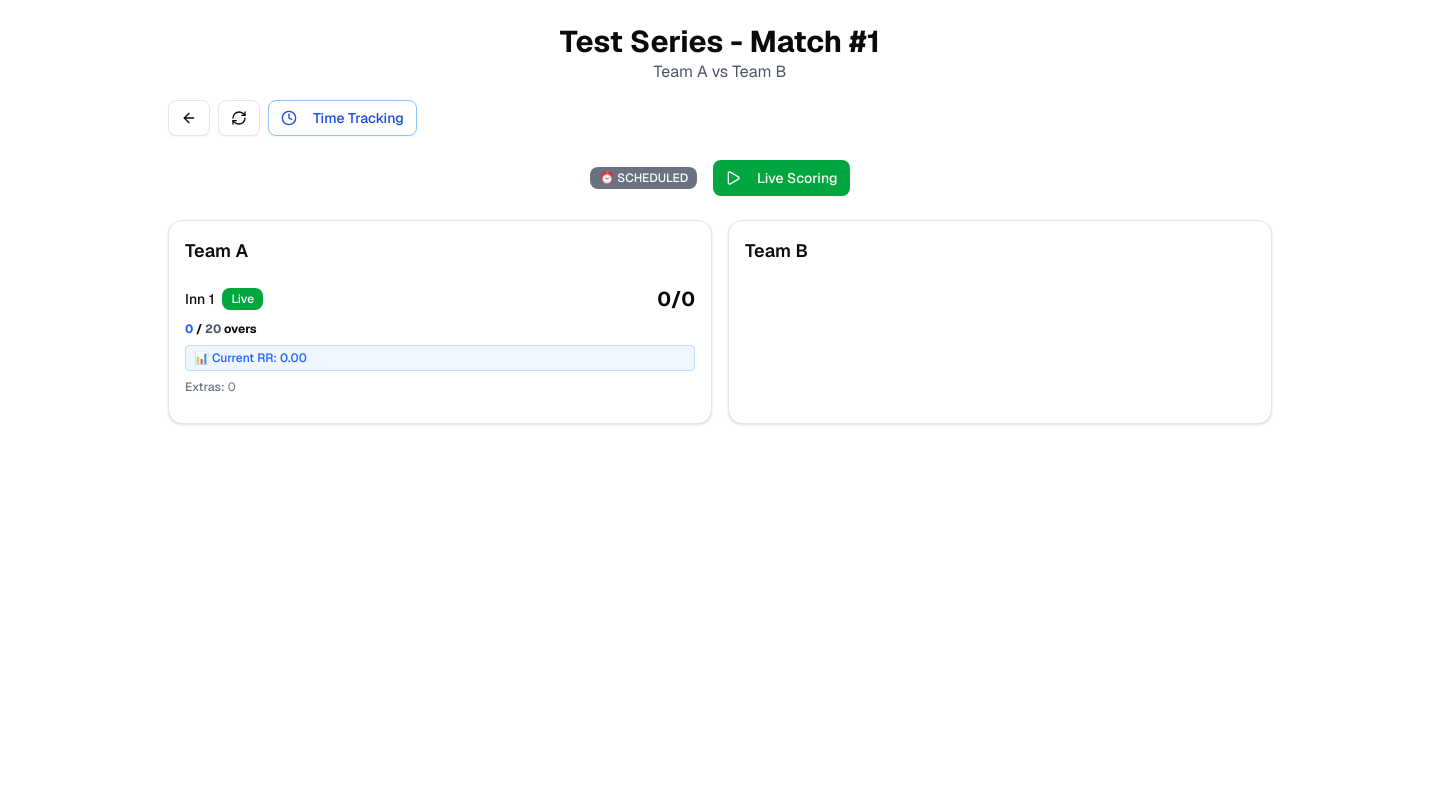
ScorecardView Component › should display scoring buttons in live scoring interface
The image size is (1440, 810).
What coordinates should you click on to do the following:
click the button "Live Scoring"
I would click on:
 (781, 178)
Its box is 713,160 -> 850,196.
(page scrolled)
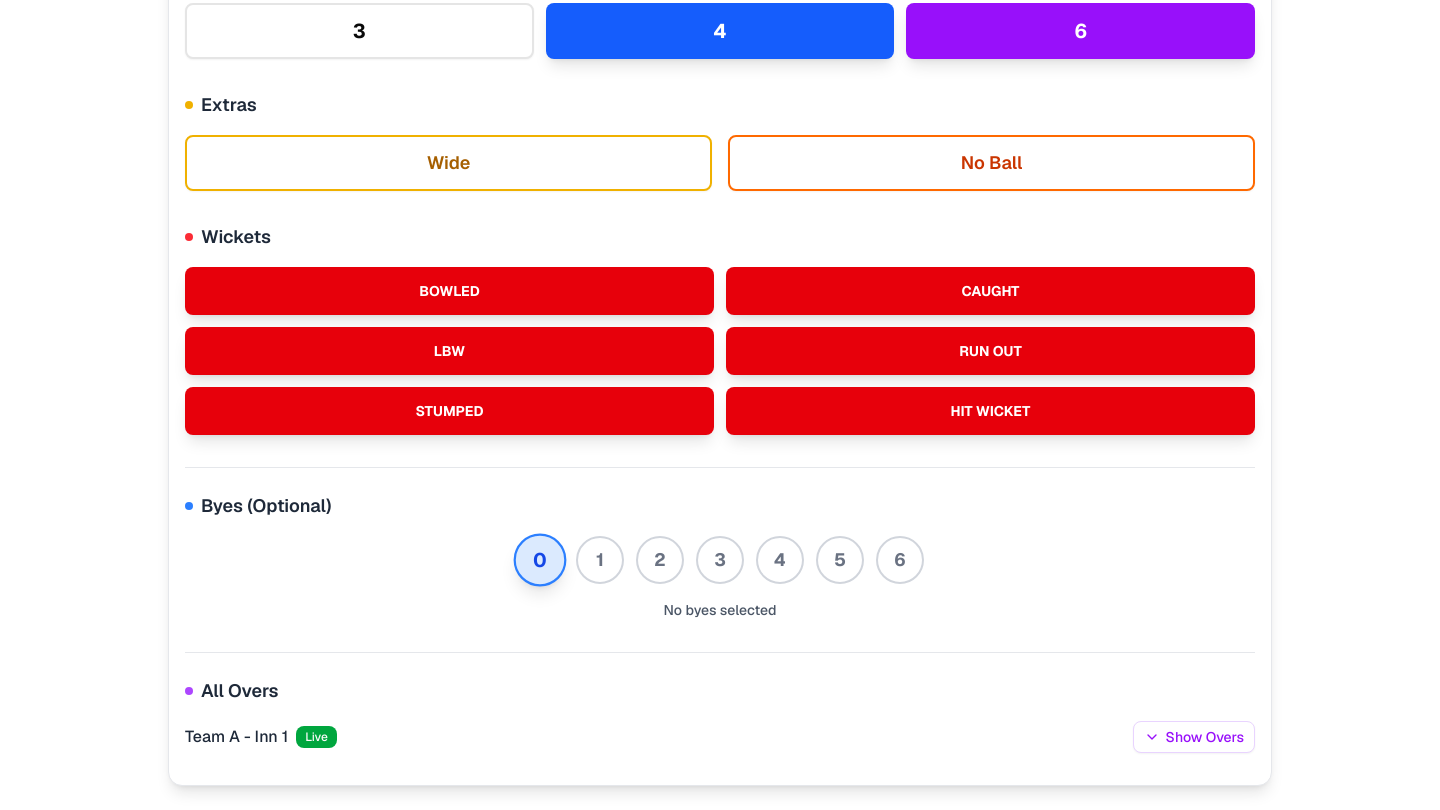
expect the heading "Wickets" is shown: met, box 201,223 -> 271,251
expect the heading "Byes (Optional)" is shown: met, box 201,492 -> 331,520
expect the text "4" is shown: met, box 713,17 -> 726,45
